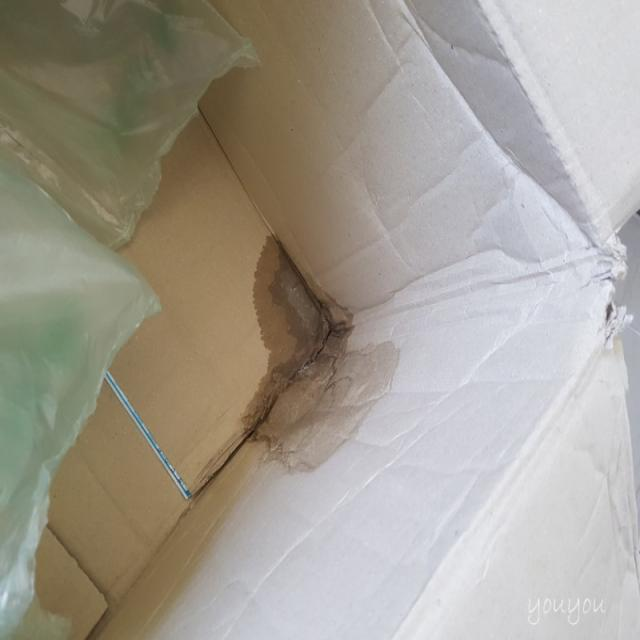wet: (224, 226, 400, 466)
